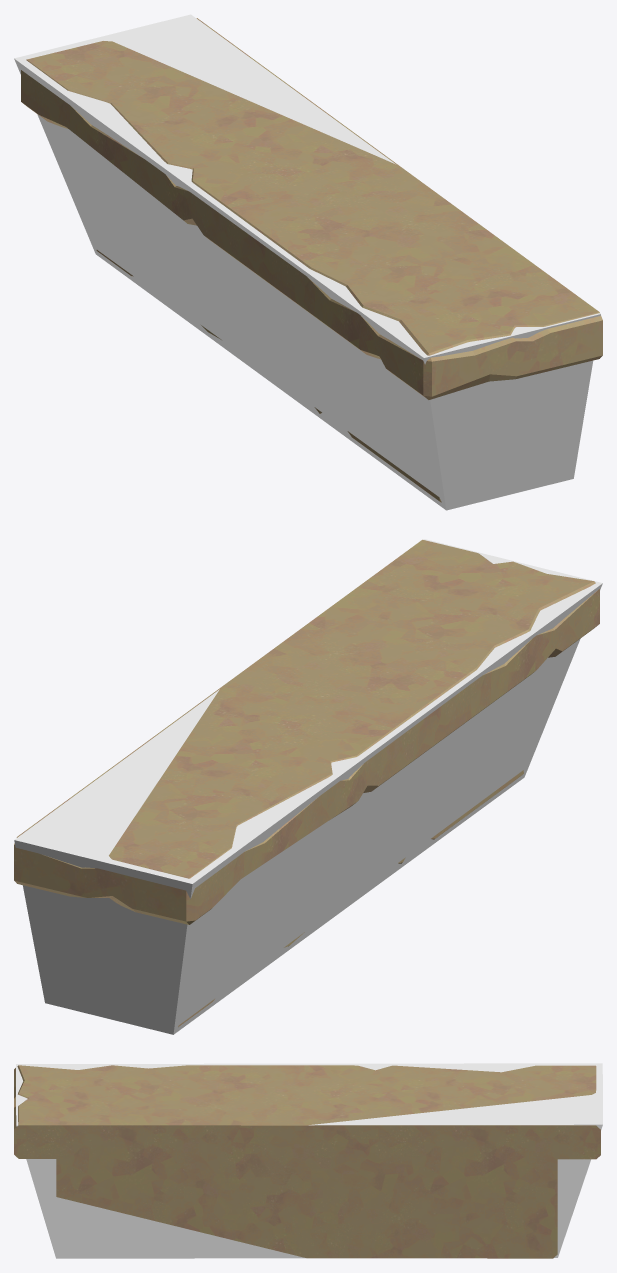
File: BlockTrim_End.fbx
3 renders of one model, top to bottom at view 1: azimuth 30°, elevation 25°; view 2: azimuth 150°, elevation 25°; view 3: azimuth 270°, elevation 25°, orthographic. The views are drawn at different scales.
Visible parts, largest first — view 1: BlockTrim_End, BlockTrim_End_COL; view 2: BlockTrim_End, BlockTrim_End_COL; view 3: BlockTrim_End, BlockTrim_End_COL.
Boxes of the visible parts, <box> form: BlockTrim_End: <box>21,18,602,502</box>; BlockTrim_End_COL: <box>14,14,600,510</box>; BlockTrim_End: <box>14,539,599,1026</box>; BlockTrim_End_COL: <box>14,539,602,1034</box>; BlockTrim_End: <box>14,1065,600,1258</box>; BlockTrim_End_COL: <box>16,1063,602,1258</box>.
Size of the model in its own units: 101 by 101 by 402.
